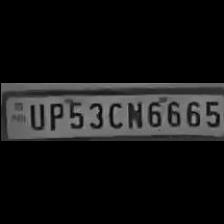3: (85, 99, 103, 129)
5: (64, 98, 84, 130), (202, 98, 222, 128)
6: (144, 98, 162, 128), (183, 98, 201, 127), (164, 98, 181, 127)
C: (104, 99, 124, 129)
N: (124, 99, 142, 129)
P: (44, 99, 64, 130)
U: (25, 100, 45, 130)
